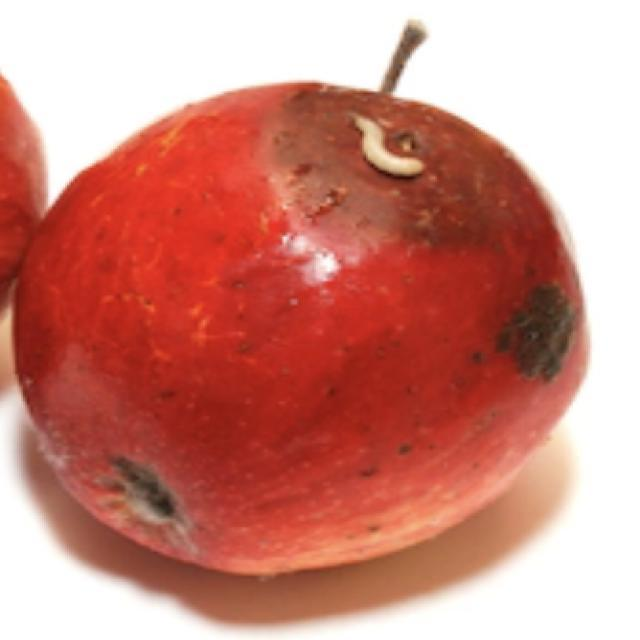Rotten: (48, 80, 587, 582)
